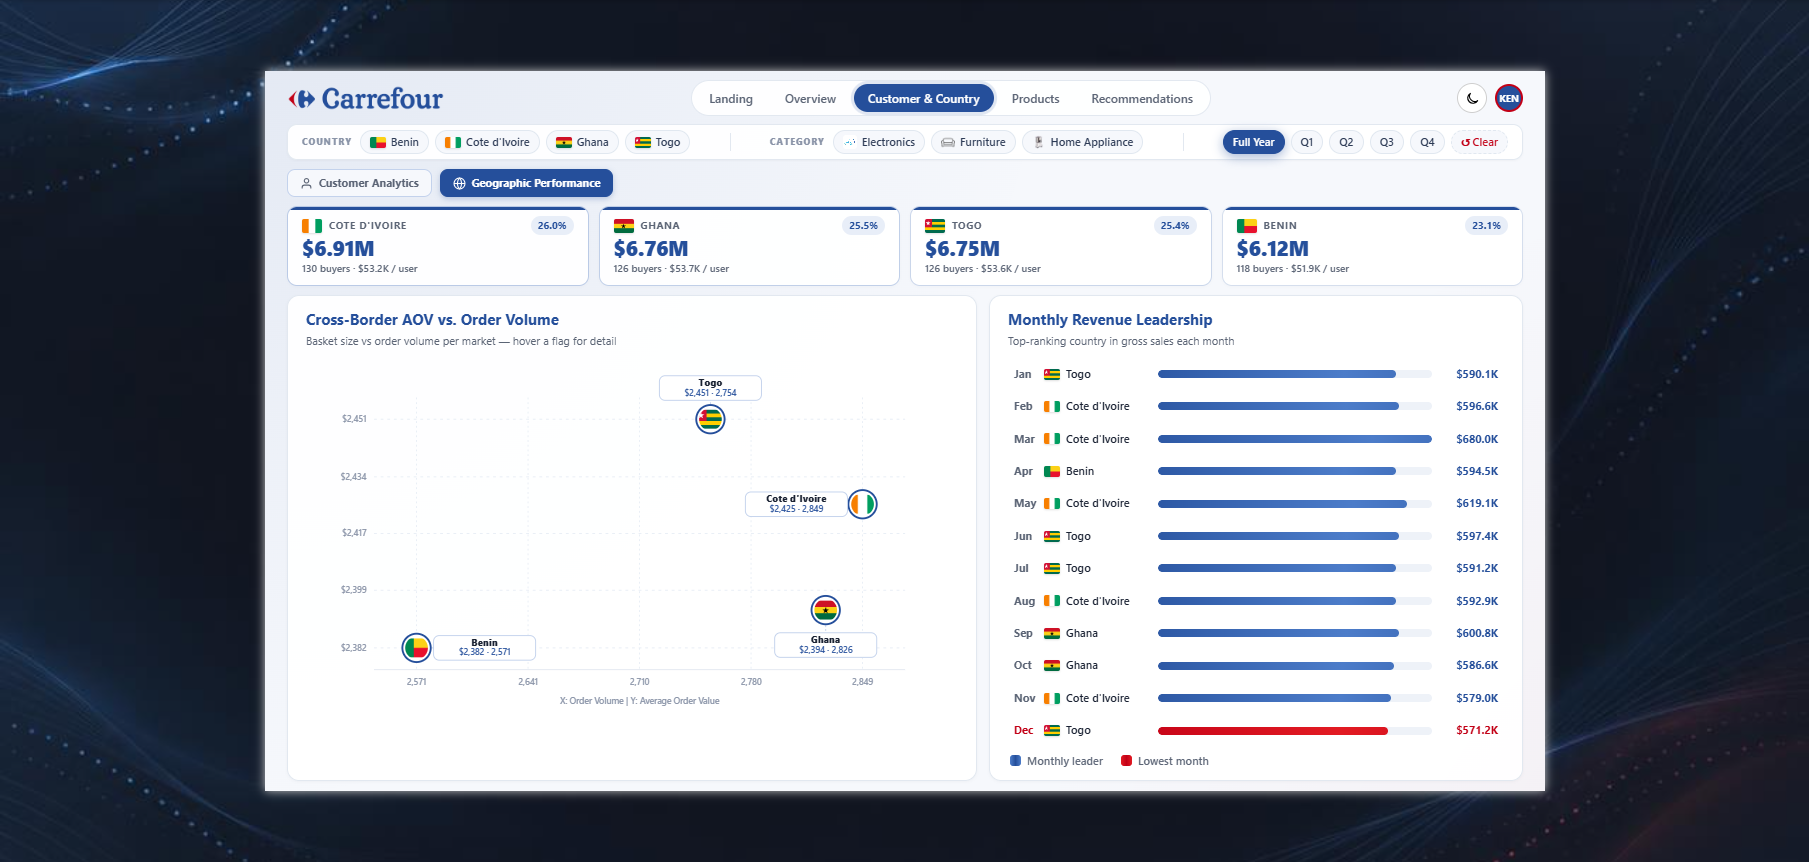

The page's visual inventory and layout, read from the dashboard file:
{"tool":"powerbi","page":{"name":"Customer & Country Page","canvas":[1280,720],"ordinal":2},"visuals":[{"type":"htmlContent443BE3AD55E043BF878BED274D3A6855","fields":{"content":["HTML_Visuals.Customer_Country_Page"]},"box":[0,0,1280,720],"z":0},{"type":"advancedSlicerVisual","title":"Country","fields":{"Values":["dim_country.country"]},"box":[96,56,344,32],"z":1000},{"type":"advancedSlicerVisual","title":"Category","fields":{"Values":["dim_category.category"]},"box":[568,56,312,32],"z":2000},{"type":"advancedSlicerVisual","title":"Quarter","fields":{"Values":["dim_date.quarter"]},"box":[1024,56,160,32],"z":3000},{"type":"actionButton","title":"Clear Filters","box":[1184,56,64,32],"z":4000},{"type":"actionButton","title":"Recommendations","box":[820,15,115,24],"z":7000},{"type":"actionButton","title":"Products","box":[740,15,60,24],"z":7250},{"type":"actionButton","title":"Overview","box":[515,15,60,24],"z":8000},{"type":"actionButton","title":"Landing","box":[440,15,55,24],"z":8500}]}

Visuals, with their boxes on the page's 1280x720 design canvas (x1, y1, x2, y2). These are canvas units, not pixel positions in the 1809x862 screenshot, which may show the page scaled, cropped or inside an application window:
htmlContent443BE3AD55E043BF878BED274D3A6855 - HTML_Visuals.Customer_Country_Page: 0,0,1280,720
"Country" advancedSlicerVisual: 96,56,440,88
"Category" advancedSlicerVisual: 568,56,880,88
"Quarter" advancedSlicerVisual: 1024,56,1184,88
"Clear Filters" actionButton: 1184,56,1248,88
"Recommendations" actionButton: 820,15,935,39
"Products" actionButton: 740,15,800,39
"Overview" actionButton: 515,15,575,39
"Landing" actionButton: 440,15,495,39
